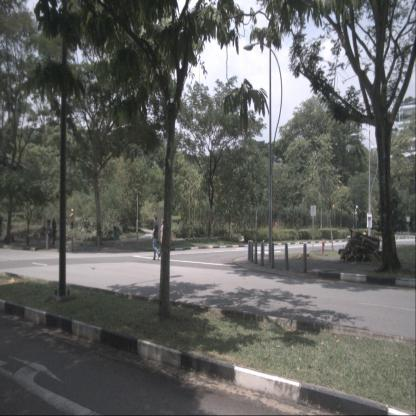human-pedestrian-adult: (151, 214, 160, 260), (158, 219, 166, 259), (47, 220, 52, 247), (52, 217, 56, 248)
